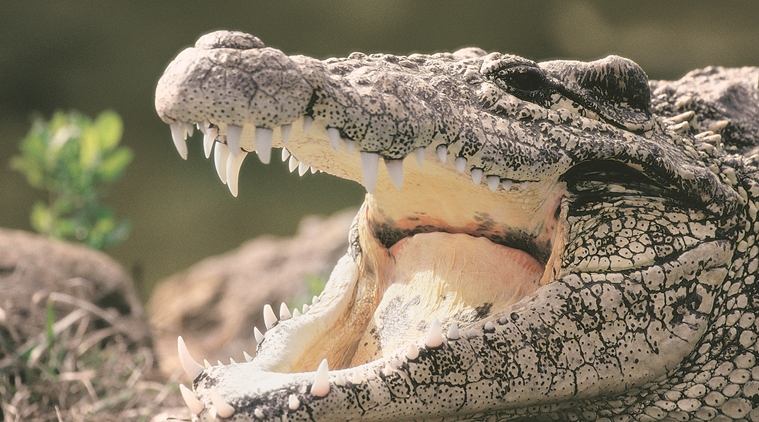Crocodile: (143, 30, 756, 422)
